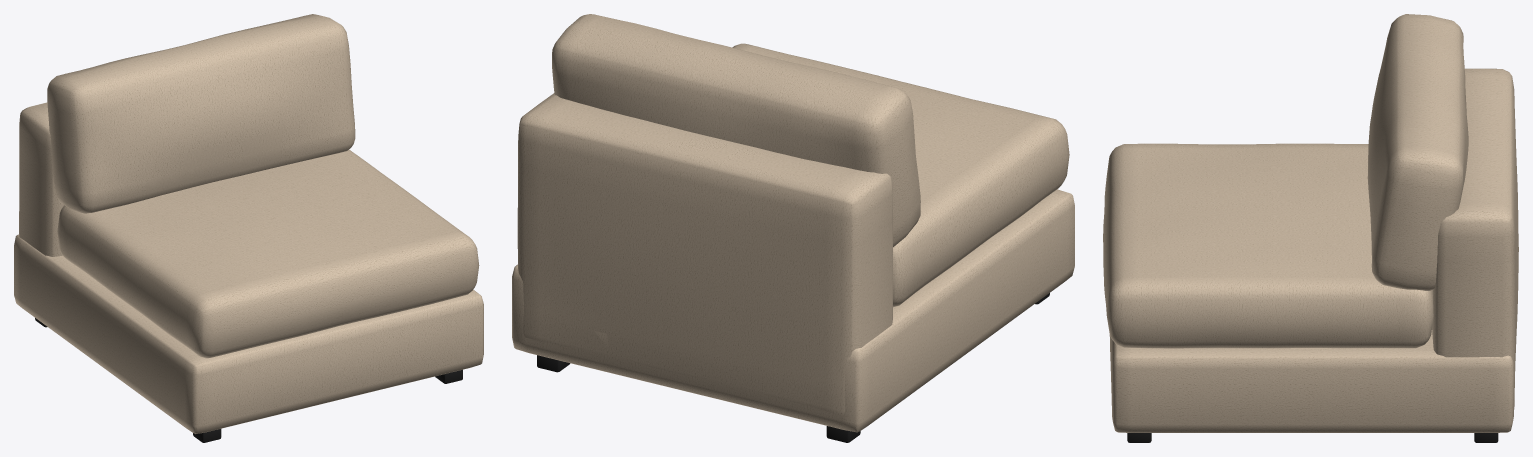
Rendered from sofa_modular_central.glb.
3 views of the same model, side by side, from view 1: azimuth 30°, elevation 25°; view 2: azimuth 150°, elevation 25°; view 3: azimuth 270°, elevation 25° (orthographic). The views are drawn at different scales.
Visible parts, largest first — view 1: sofa_modular_central; view 2: sofa_modular_central; view 3: sofa_modular_central.
Part boxes in pixels (x1=…): sofa_modular_central: x1=14, y1=14, x2=483, y2=442; sofa_modular_central: x1=512, y1=14, x2=1074, y2=442; sofa_modular_central: x1=1103, y1=14, x2=1518, y2=442.
Size of the model in its own units: 0.92 by 0.8066 by 1.03.
Materials: 2 (1 with a texture image).
